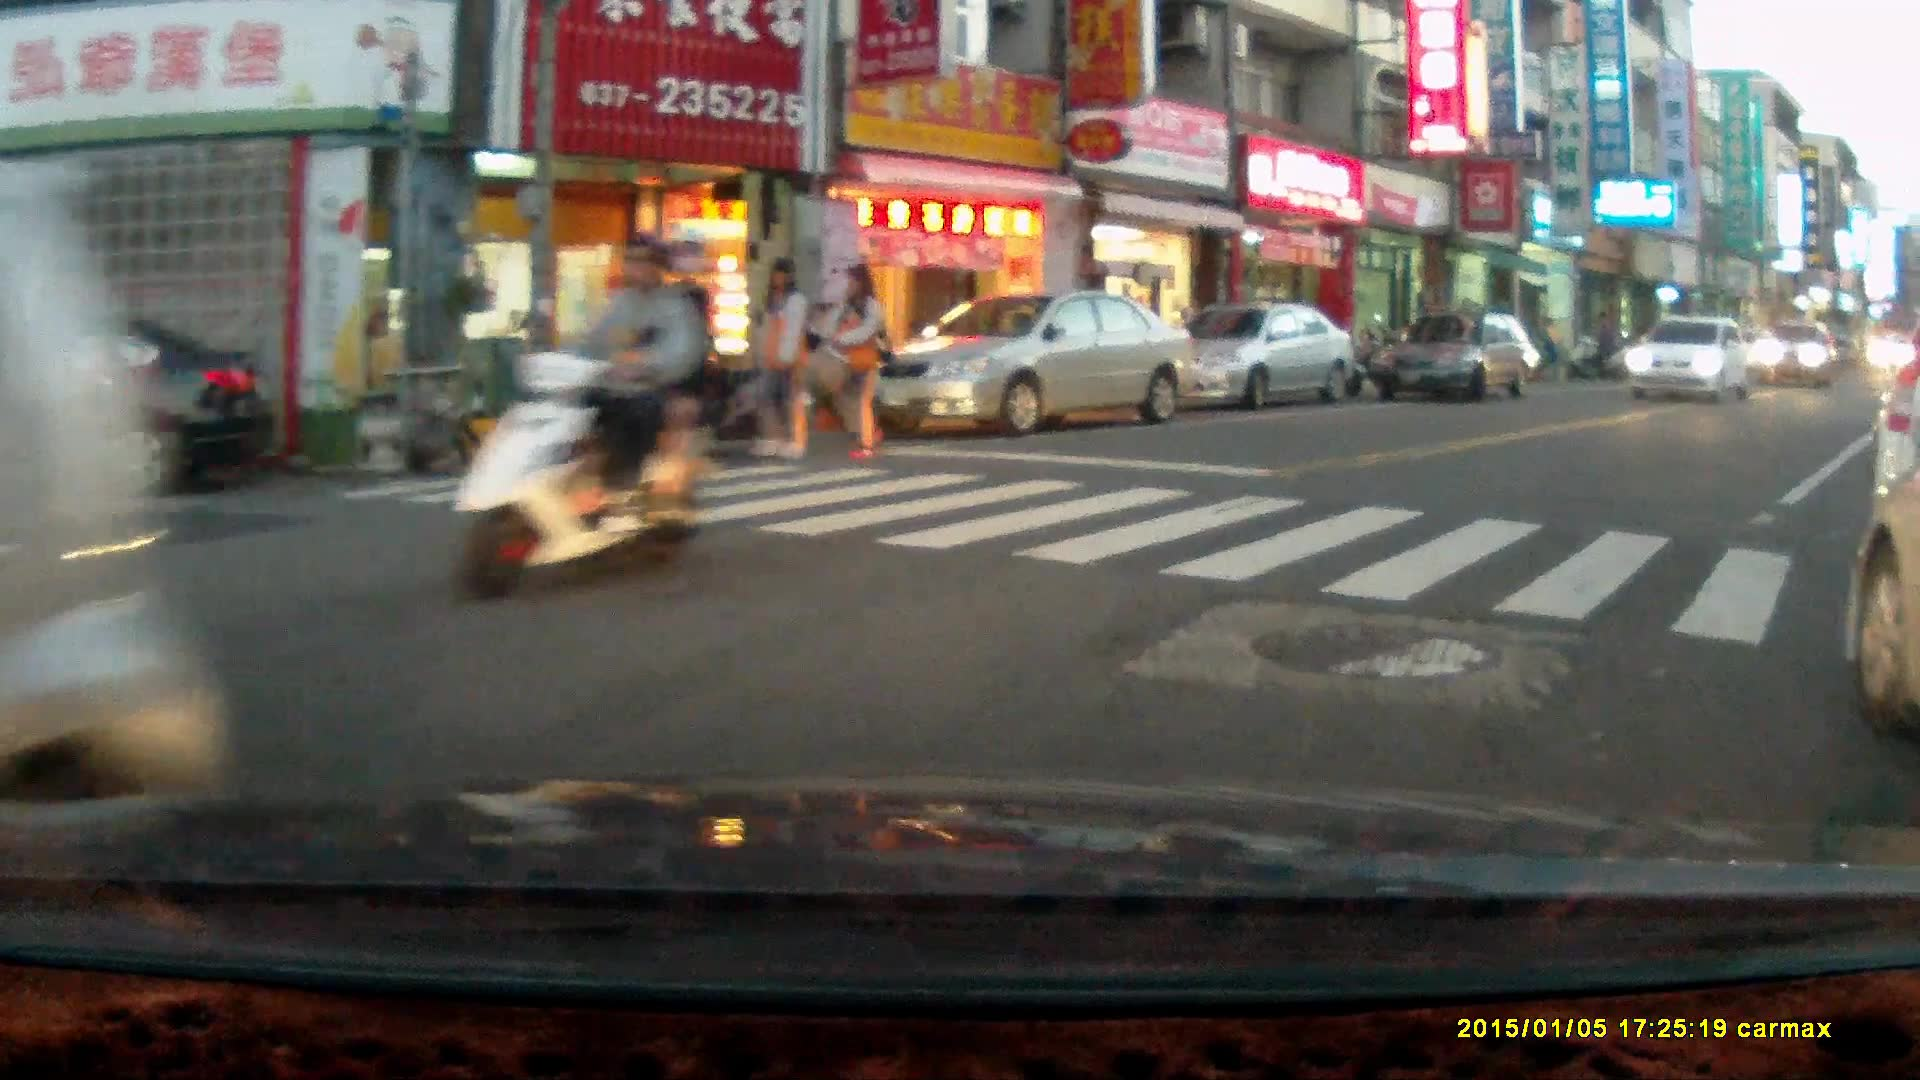pedestrian: (739, 259, 817, 462), (818, 259, 888, 460)
rider: (446, 225, 712, 602)
vehicle: (2, 309, 290, 503), (855, 292, 1198, 437), (1148, 301, 1358, 412), (1372, 311, 1545, 405), (1867, 358, 1920, 581), (1624, 315, 1754, 400), (1749, 318, 1843, 390)
